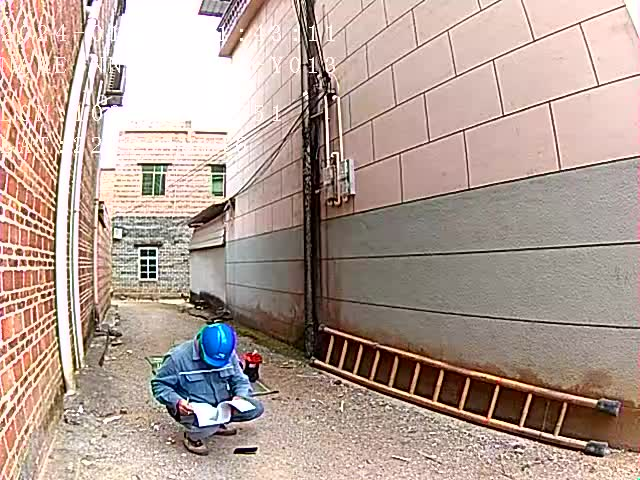halt: (200, 326, 240, 369)
